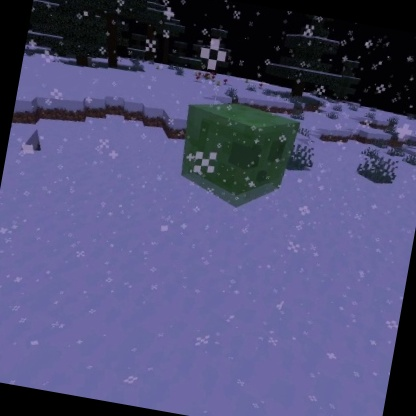slime: (168, 91, 305, 221)
